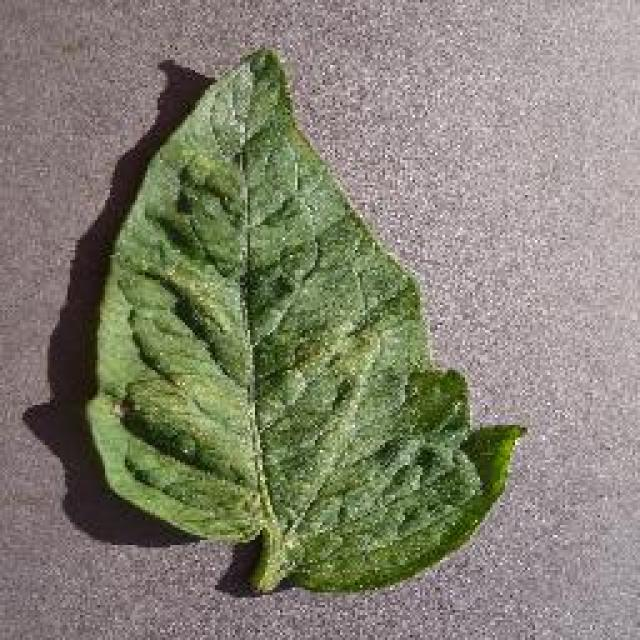Tomato___Spider_mites Two-spotted_spider_mite: (85, 50, 520, 590)
